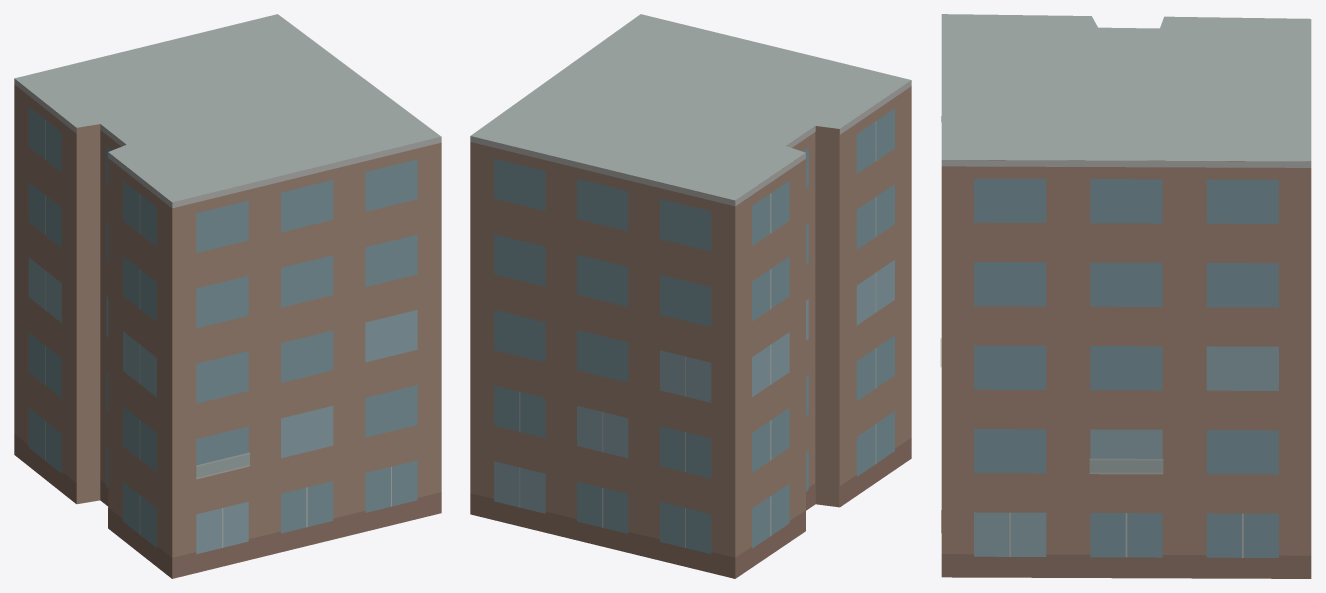
File: survey-upis-32782989.glb
The picture shows the model from 3 angles, left to right: view 1: azimuth 30°, elevation 25°; view 2: azimuth 150°, elevation 25°; view 3: azimuth 270°, elevation 25°; orthographic projection. The views are drawn at different scales.
Parts seen in each view (by area): view 1: survey-upis-32782989.tmp; view 2: survey-upis-32782989.tmp; view 3: survey-upis-32782989.tmp.
Boxes of the visible parts, box(x1,y1,x2,y2) form: survey-upis-32782989.tmp: box(14, 14, 441, 578); survey-upis-32782989.tmp: box(470, 14, 911, 578); survey-upis-32782989.tmp: box(940, 14, 1311, 578).
Bounding box in the file's own units: 11.82 × 15.6 × 12.57.
